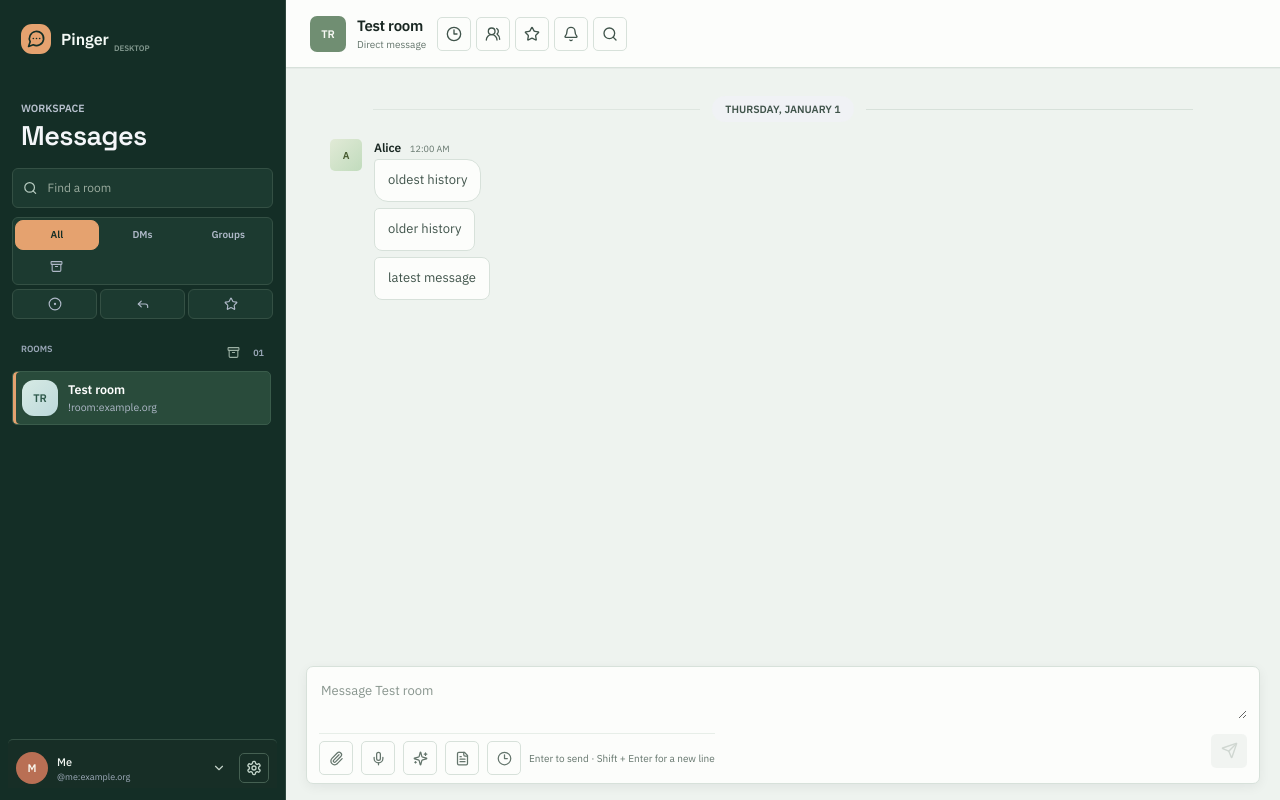
Scenario: room history updates › sends an Ask AI question to the local endpoint and only drafts the reply
Check: the text "latest message" is shown, box [388, 268, 476, 288]
Type "What did Alice ask?" into the text box labelled "Message".
click(783, 698); type("What did Alice ask?")  # box [319, 677, 1247, 719]
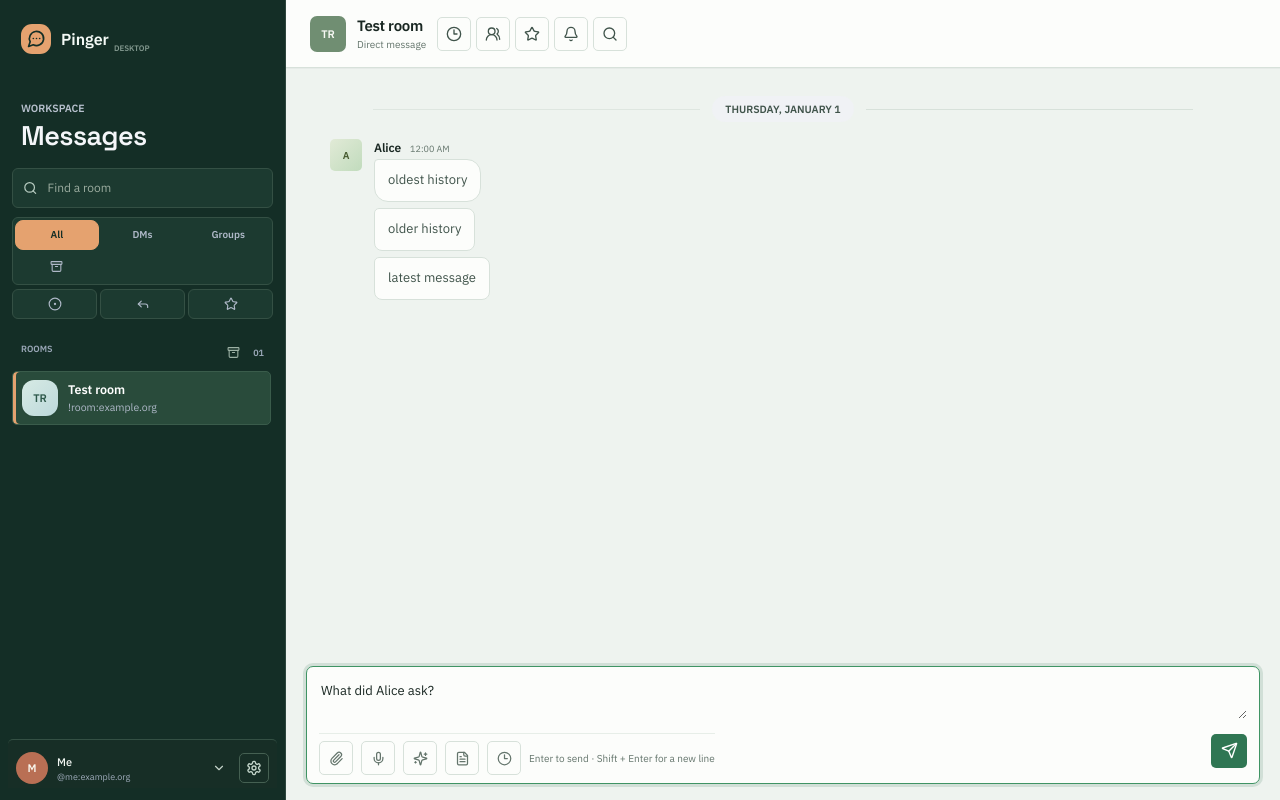
Click the button named "Ask AI about the composer text".
click(420, 758)  # box [403, 741, 437, 775]
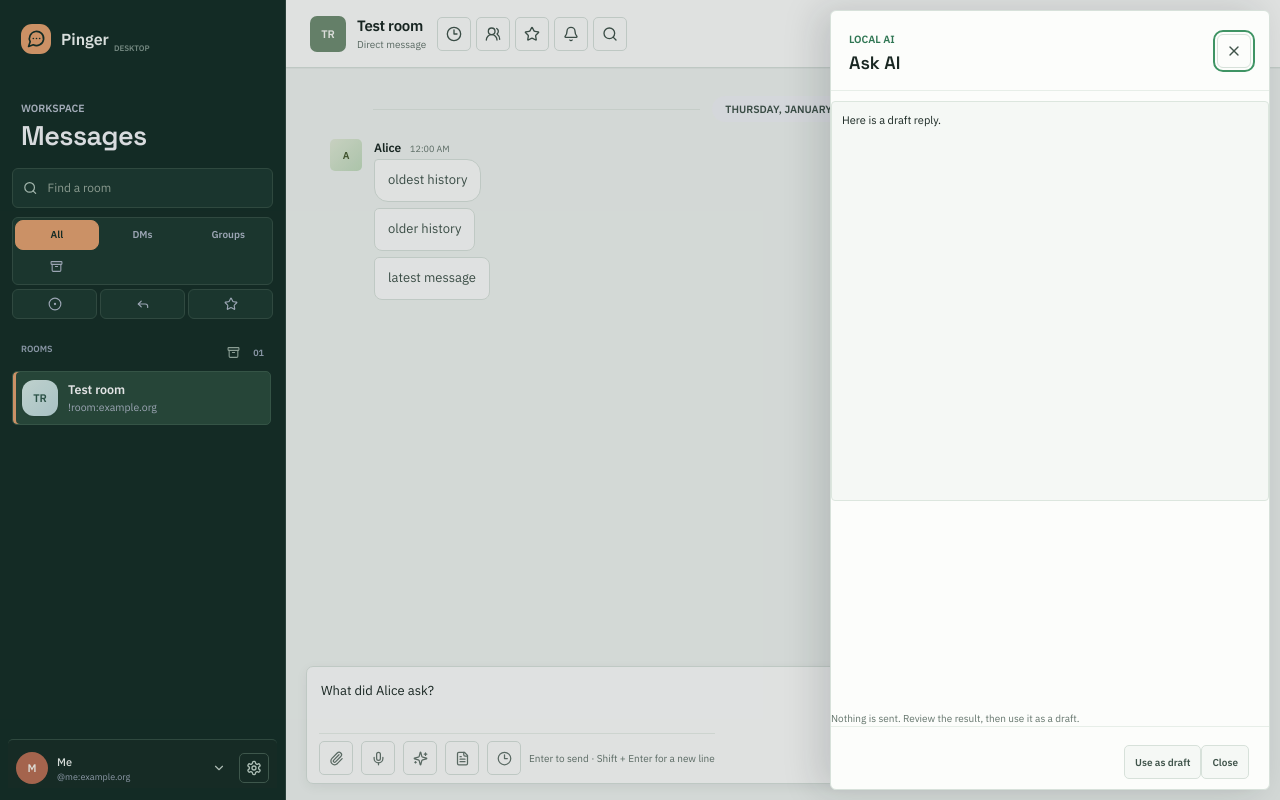
Check: the text "Here is a draft reply." is shown, box [831, 101, 1269, 501]
Click the button "Use as draft".
click(1163, 762)  # box [1124, 745, 1201, 779]
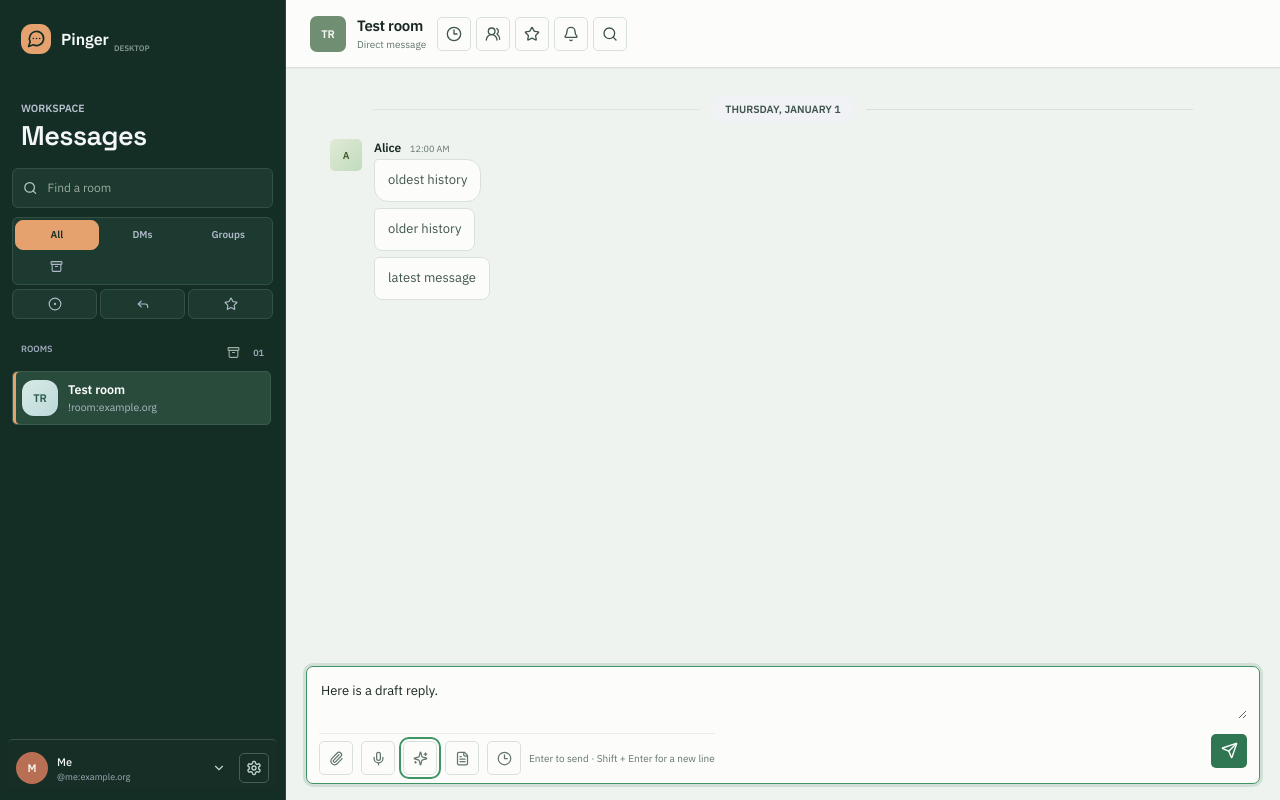
Check: the text box named "Message" holds "Here is a draft reply.", box [319, 677, 1247, 719]
Check: the heading "Ask AI" is gone
